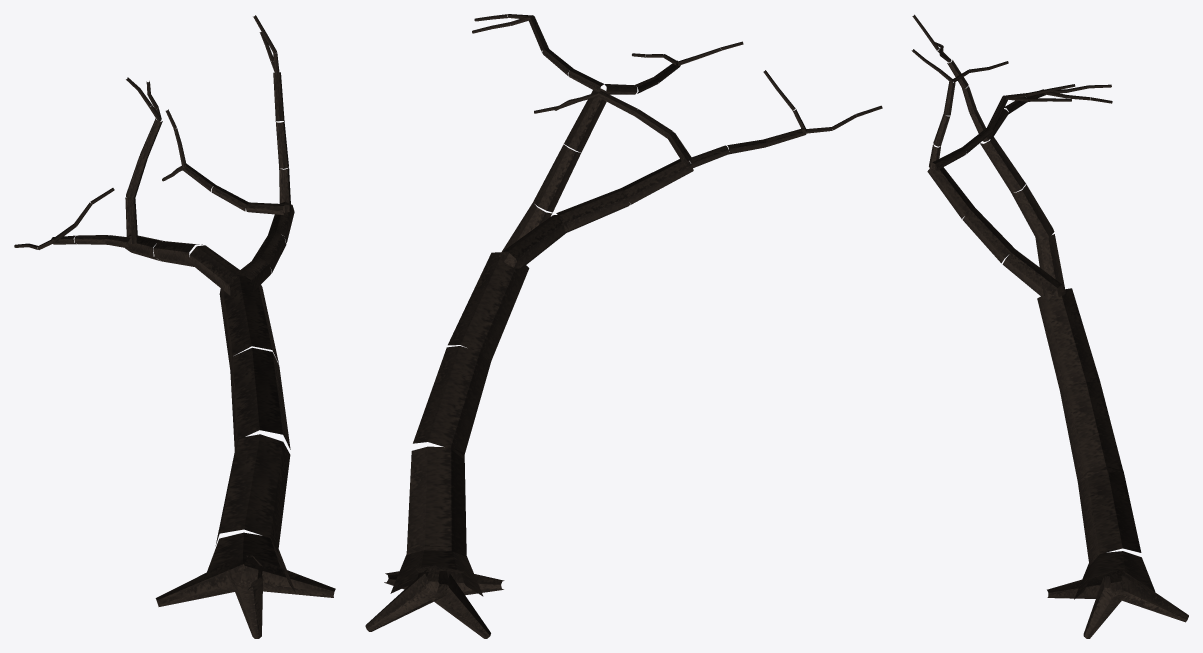
File: mm_tree1.glb
The picture shows the model from 3 angles, left to right: view 1: azimuth 30°, elevation 25°; view 2: azimuth 150°, elevation 25°; view 3: azimuth 270°, elevation 25°; orthographic projection. The views are drawn at different scales.
Parts seen in each view (by area): view 1: bark; view 2: bark; view 3: bark.
Boxes of the visible parts, x1,y1,x2,y2 form: bark: (14,15,335,638); bark: (365,14,882,638); bark: (911,14,1188,638).
Bounding box in the file's own units: 6.02 × 8.26 × 4.01.
Materials: 1 (1 with a texture image).
